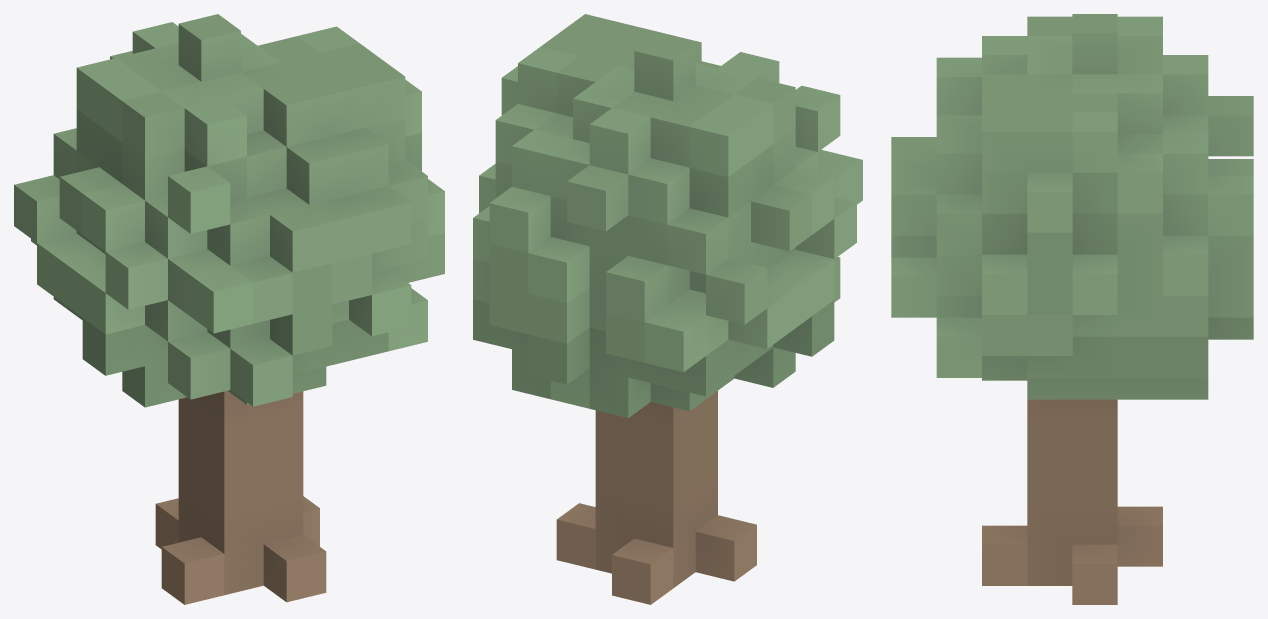
The model's file is tree_ornament.v1.glb.
3 renders of one model, left to right at view 1: azimuth 30°, elevation 25°; view 2: azimuth 150°, elevation 25°; view 3: azimuth 270°, elevation 25°, orthographic.
Parts seen in each view (by area): view 1: tree_ornament; view 2: tree_ornament; view 3: tree_ornament.
Part boxes in pixels (x1,y1,x2,y2): tree_ornament: [14, 14, 444, 604]; tree_ornament: [473, 14, 862, 604]; tree_ornament: [891, 14, 1253, 604].
Bounding box in the file's own units: 1 × 1.62 × 1.
